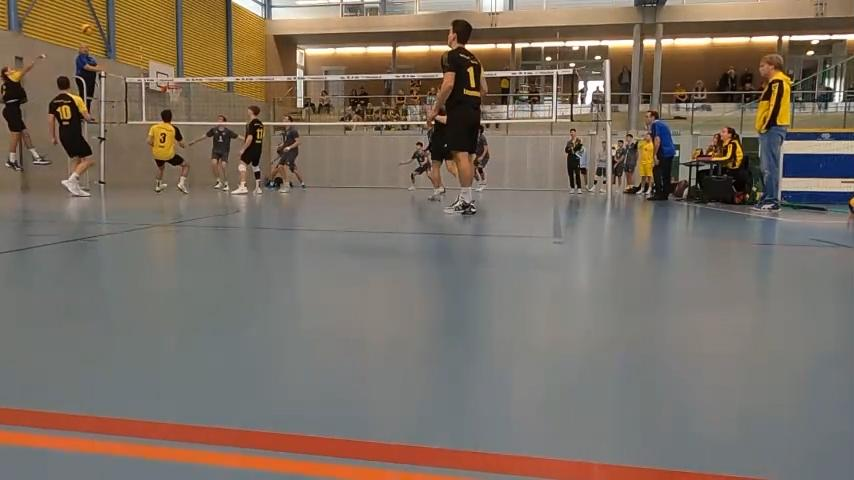attacco: (0, 54, 44, 171)
